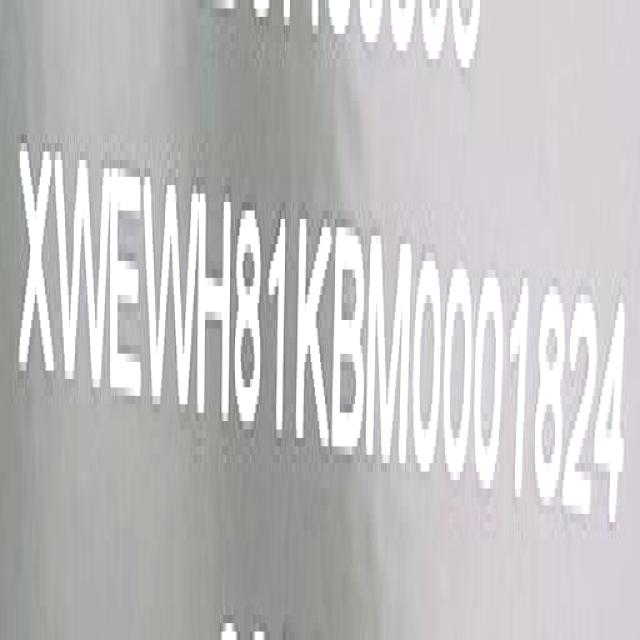0: (412, 250, 443, 480), (444, 259, 474, 486), (473, 268, 504, 484)
1: (509, 278, 531, 499), (268, 196, 286, 462)
2: (563, 265, 598, 527)
4: (594, 256, 628, 540)
8: (234, 200, 265, 443), (532, 284, 565, 508)
B: (332, 203, 366, 477)
E: (109, 159, 143, 424)
H: (195, 178, 234, 452)
K: (295, 193, 332, 468)
M: (365, 225, 414, 471)
W: (54, 128, 111, 418), (141, 169, 198, 424)
X: (17, 134, 55, 393)
